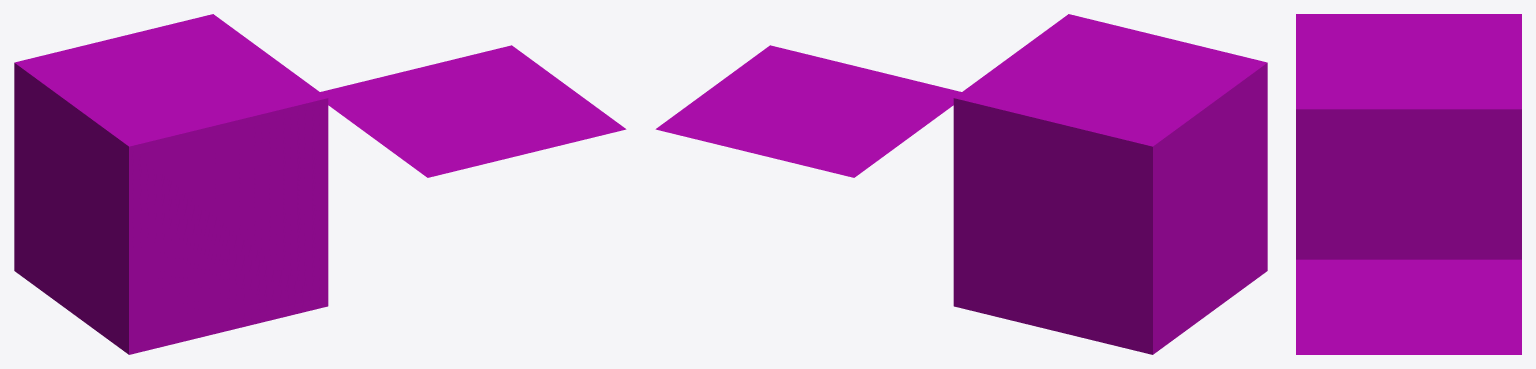
File: original_tree.out_plain.glb
3 views of the same model, side by side, from view 1: azimuth 30°, elevation 25°; view 2: azimuth 150°, elevation 25°; view 3: azimuth 270°, elevation 25° (orthographic).
Visible parts, largest first — view 1: Cube, Plane; view 2: Cube, Plane; view 3: Cube, Plane.
Part boxes in pixels (<box>): Cube: <box>14,14,328,354</box>; Plane: <box>320,45,626,177</box>; Cube: <box>953,14,1267,354</box>; Plane: <box>655,45,961,177</box>; Cube: <box>1296,14,1521,259</box>; Plane: <box>1296,259,1521,354</box>.
Bounding box in the file's own units: 5 × 2 × 2.
